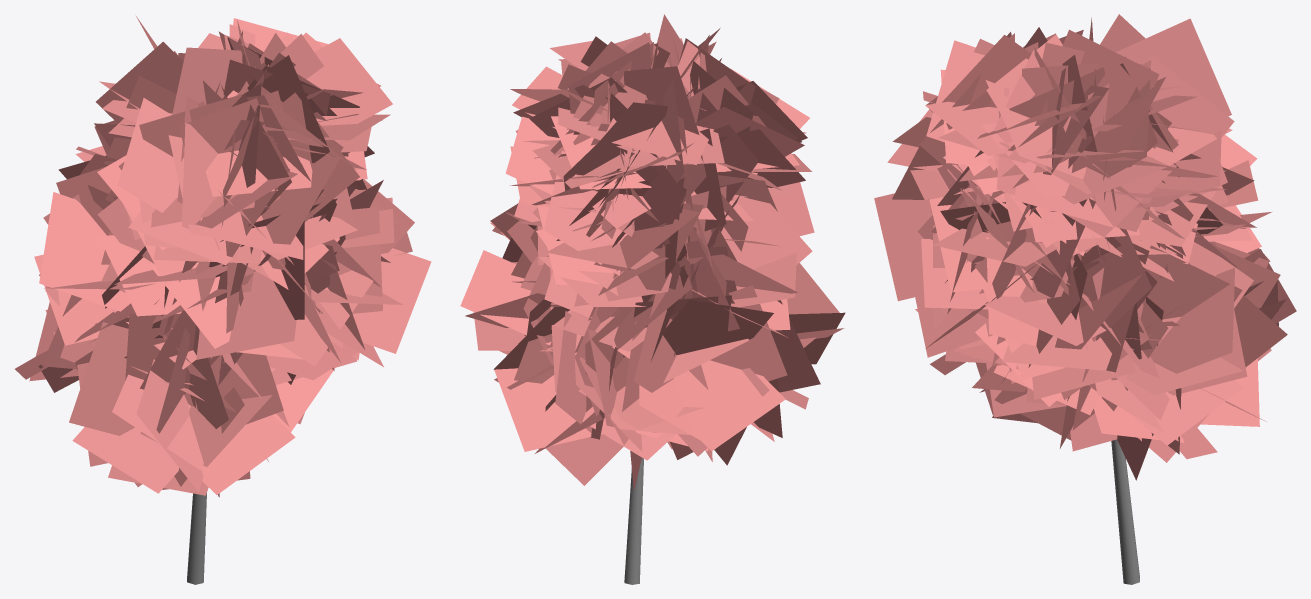
The model's file is SM_tree7.fbx.
3 views of the same model, side by side, from view 1: azimuth 30°, elevation 25°; view 2: azimuth 150°, elevation 25°; view 3: azimuth 270°, elevation 25° (orthographic). The views are drawn at different scales.
Visible parts, largest first — view 1: SM_tree7; view 2: SM_tree7; view 3: SM_tree7.
Boxes of the visible parts, box(x1,y1,x2,y2) form: SM_tree7: box(15, 16, 431, 584); SM_tree7: box(460, 14, 845, 584); SM_tree7: box(874, 14, 1296, 584).
Size of the model in its own units: 562 by 863 by 589.
